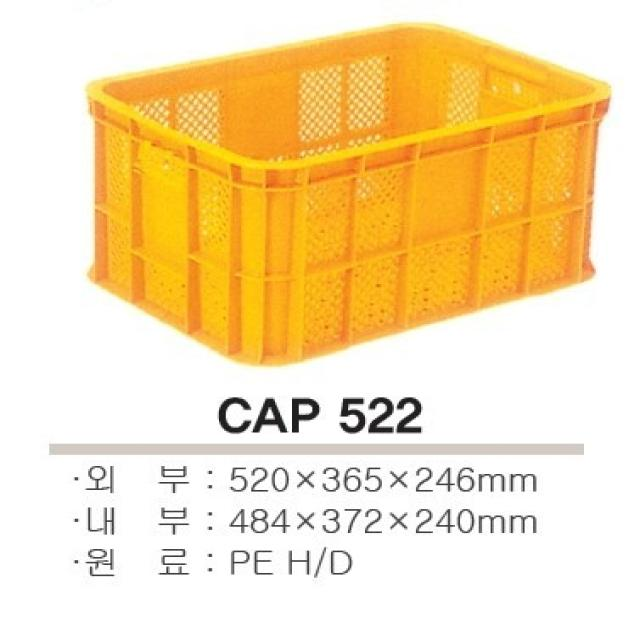basket: (75, 11, 629, 377)
